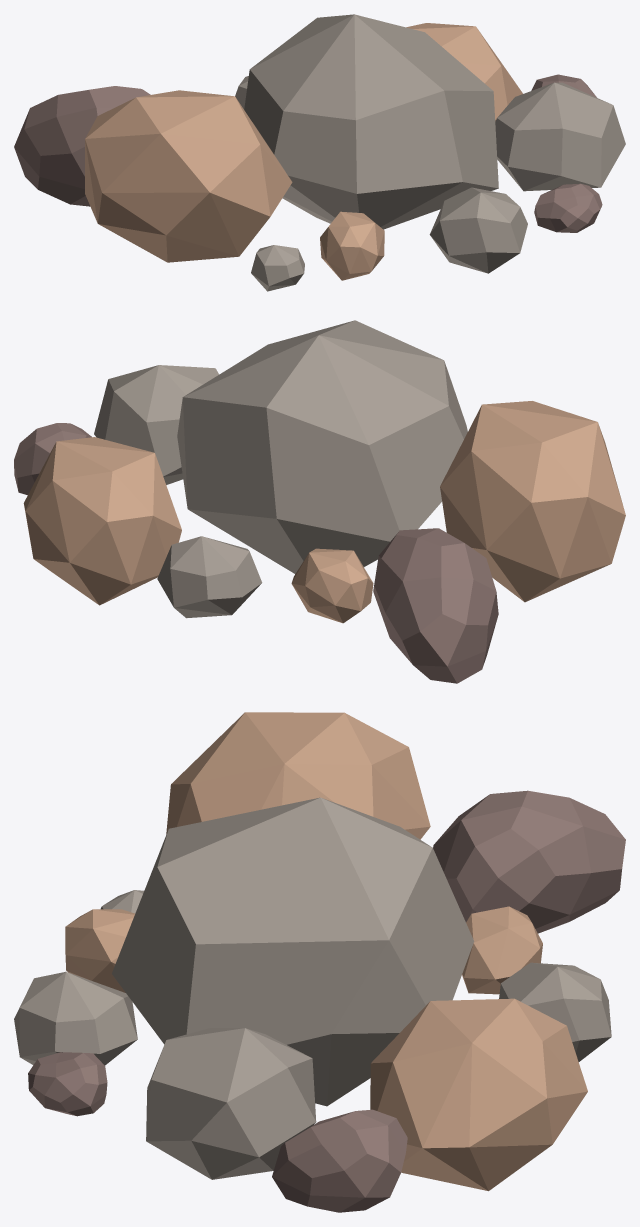
Rendered from RockClusterTree (1).fbx.
3 views of the same model, one above another, from view 1: azimuth 30°, elevation 25°; view 2: azimuth 150°, elevation 25°; view 3: azimuth 270°, elevation 25° (orthographic). The views are drawn at different scales.
Parts seen in each view (by area): view 1: RockCluster3; view 2: RockCluster3; view 3: RockCluster3.
Part boxes in pixels (x1=…): RockCluster3: x1=14, y1=14, x2=625, y2=291; RockCluster3: x1=14, y1=320, x2=625, y2=683; RockCluster3: x1=14, y1=712, x2=625, y2=1212.
Size of the model in its own units: 109 by 42.91 by 83.39.
